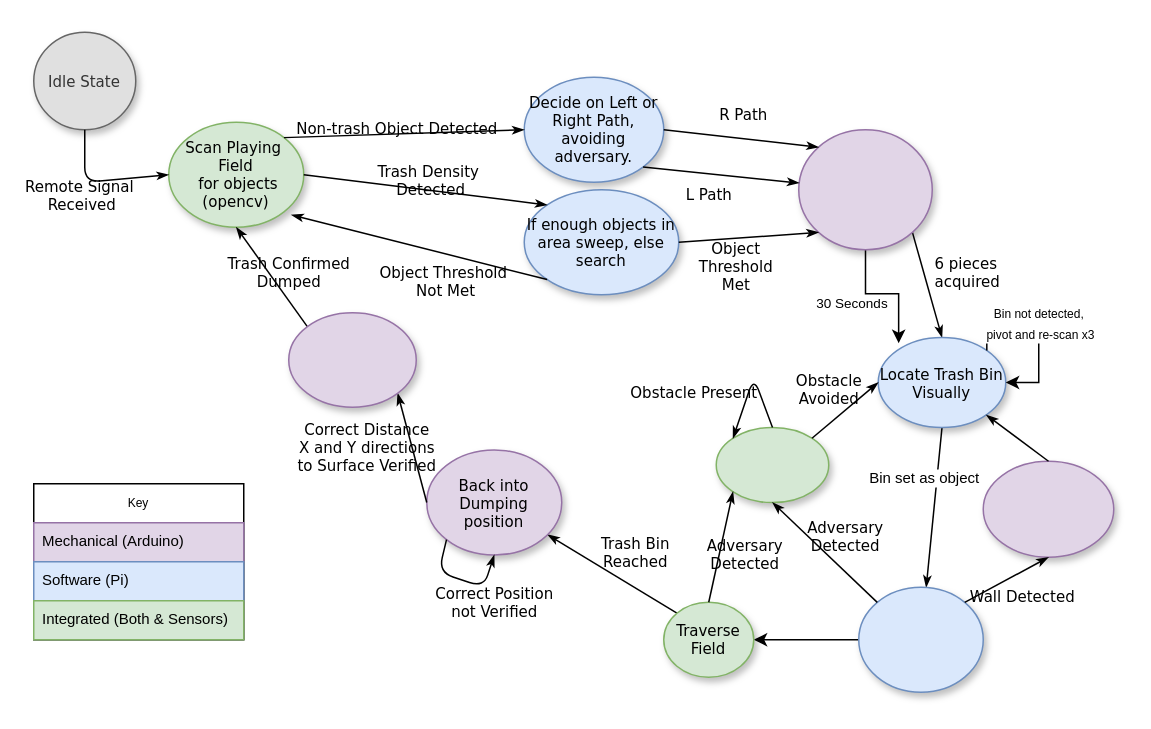
Some shapes in this 1151 by 729 pixel diagram are drawn without their labels. The centre of each missing label's shape, as x and y in pixels:
Avoid Obstacle: (x=773, y=466)
Begin trash dump function: (x=353, y=361)
Call Object-follow function: (x=921, y=641)
Reverse, turn slightly toward bin, scan playing field: (x=1049, y=511)
Sweep Area: (x=866, y=191)
